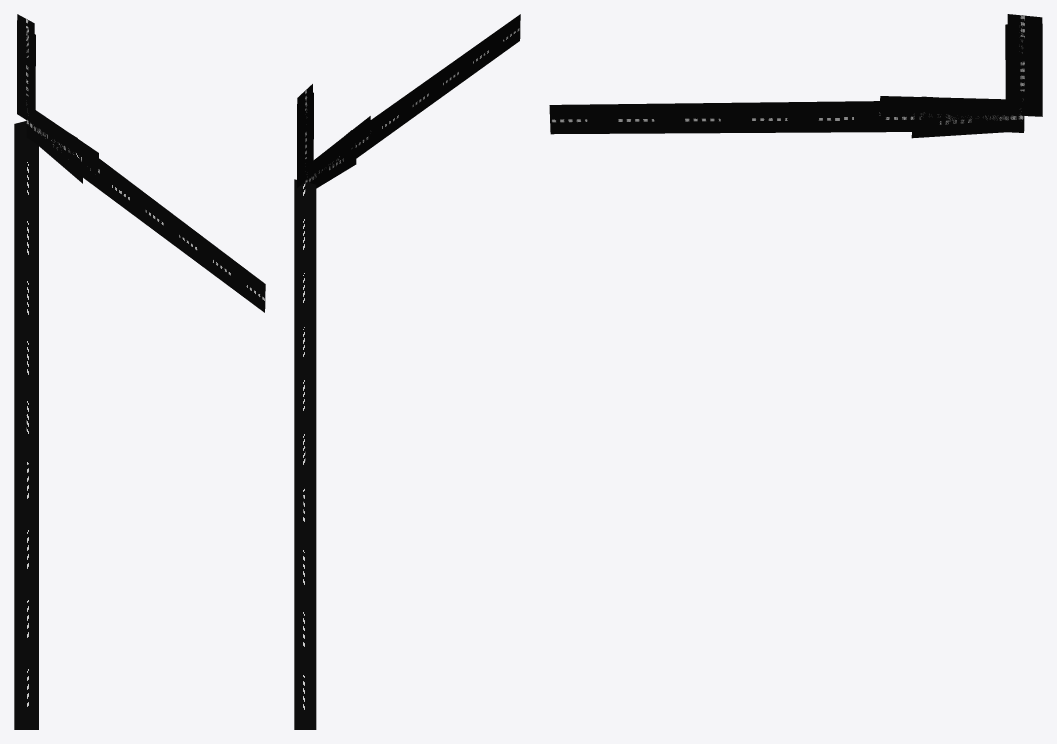
Rendered from 1194k_camisole_p.gltf.
3 views of the same model, side by side, from view 1: azimuth 30°, elevation 25°; view 2: azimuth 150°, elevation 25°; view 3: azimuth 270°, elevation 25° (orthographic). The views are drawn at different scales.
Visible parts, largest first — view 1: 1194k_camisole_p; view 2: 1194k_camisole_p; view 3: 1194k_camisole_p.
Part boxes in pixels (<box>): 1194k_camisole_p: <box>14,14,265,729</box>; 1194k_camisole_p: <box>294,14,520,729</box>; 1194k_camisole_p: <box>549,14,1042,138</box>.
Size of the model in its own units: 0.0302 by 0.8404 by 0.5289.
1 material, 1 textured.
